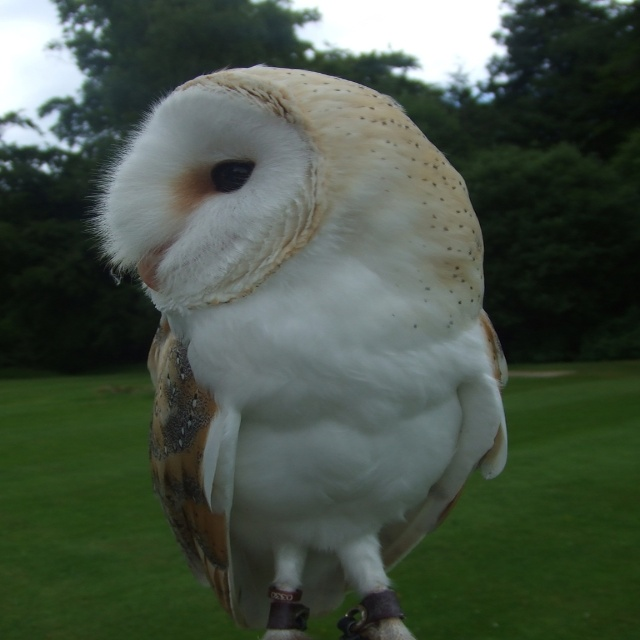Owl: (81, 63, 507, 640)
